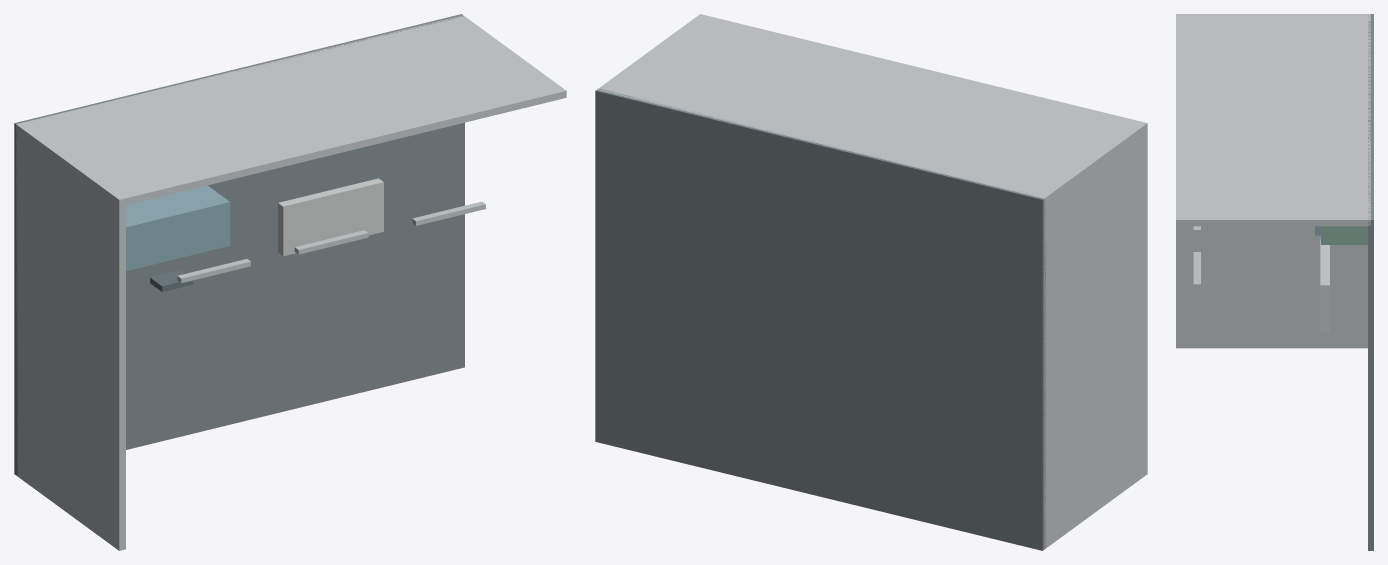
Rendered from ubs-medium.glb.
The picture shows the model from 3 angles, left to right: view 1: azimuth 30°, elevation 25°; view 2: azimuth 150°, elevation 25°; view 3: azimuth 270°, elevation 25°; orthographic projection. The views are drawn at different scales.
Parts seen in each view (by area): view 1: floor, wall_back, wall_left, reception_desk, exam_table, ceiling_panel_2, ceiling_panel_3, ceiling_panel_1; view 2: floor, wall_back, wall_left; view 3: wall_back, wall_left, floor, supplies_cabinet, exam_table, ceiling_panel_3.
Boxes of the visible parts, x1,y1,x2,y2 form: floor: (14, 14, 464, 476); wall_back: (16, 15, 566, 206); wall_left: (16, 122, 125, 550); reception_desk: (126, 185, 230, 270); exam_table: (278, 178, 383, 256); ceiling_panel_2: (294, 230, 368, 254); ceiling_panel_3: (412, 201, 485, 225); ceiling_panel_1: (177, 259, 250, 283); floor: (595, 88, 1045, 550); wall_back: (598, 14, 1147, 204); wall_left: (1038, 121, 1147, 549); wall_back: (1176, 14, 1370, 226); wall_left: (1176, 14, 1370, 348); floor: (1368, 14, 1373, 550); supplies_cabinet: (1321, 226, 1367, 244); exam_table: (1320, 239, 1329, 332); ceiling_panel_3: (1193, 252, 1200, 288).
Size of the model in its own units: 8 by 6 by 3.25.
